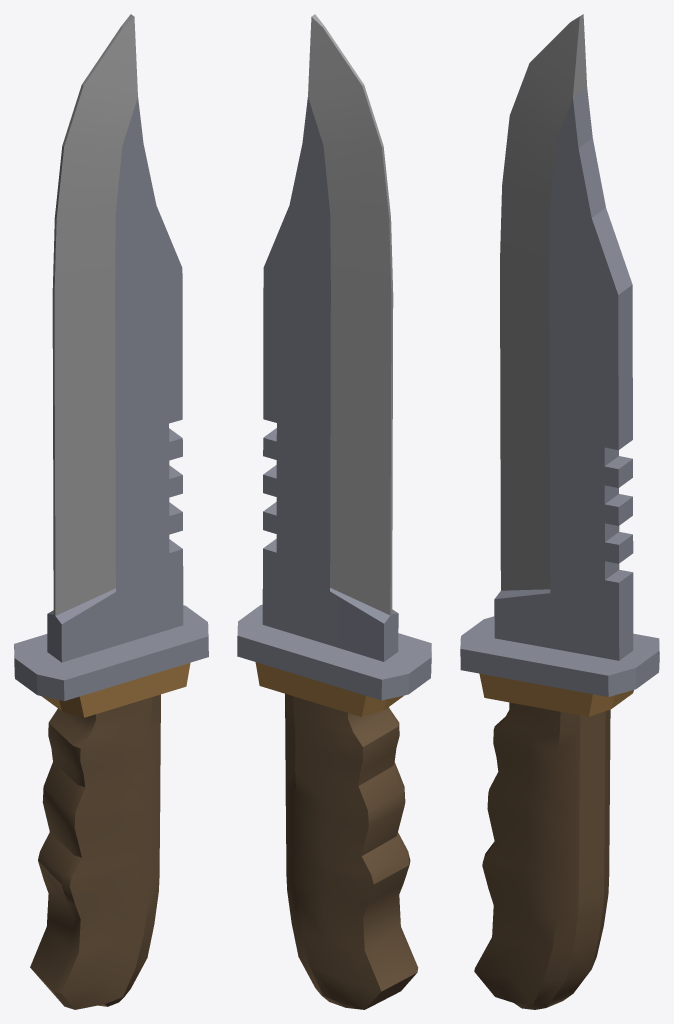
The model's file is quaternius-toon-shooter-game-knife-1.glb.
3 renders of one model, left to right at view 1: azimuth 30°, elevation 25°; view 2: azimuth 150°, elevation 25°; view 3: azimuth 330°, elevation 25°, orthographic. The views are drawn at different scales.
Visible parts, largest first — view 1: Knife_1; view 2: Knife_1; view 3: Knife_1.
Boxes of the visible parts, x1,y1,x2,y2 form: Knife_1: (14, 14, 208, 1009); Knife_1: (237, 14, 431, 1009); Knife_1: (460, 14, 659, 1009).
Size of the model in its own units: 0.2596 by 1.41 by 0.131.
